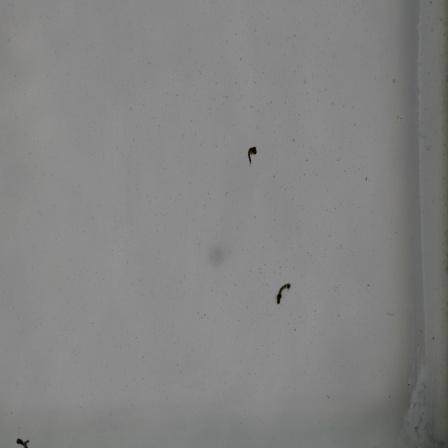Jentik-Nyamuk: (272, 277, 294, 308), (245, 143, 260, 168), (13, 432, 35, 448)
